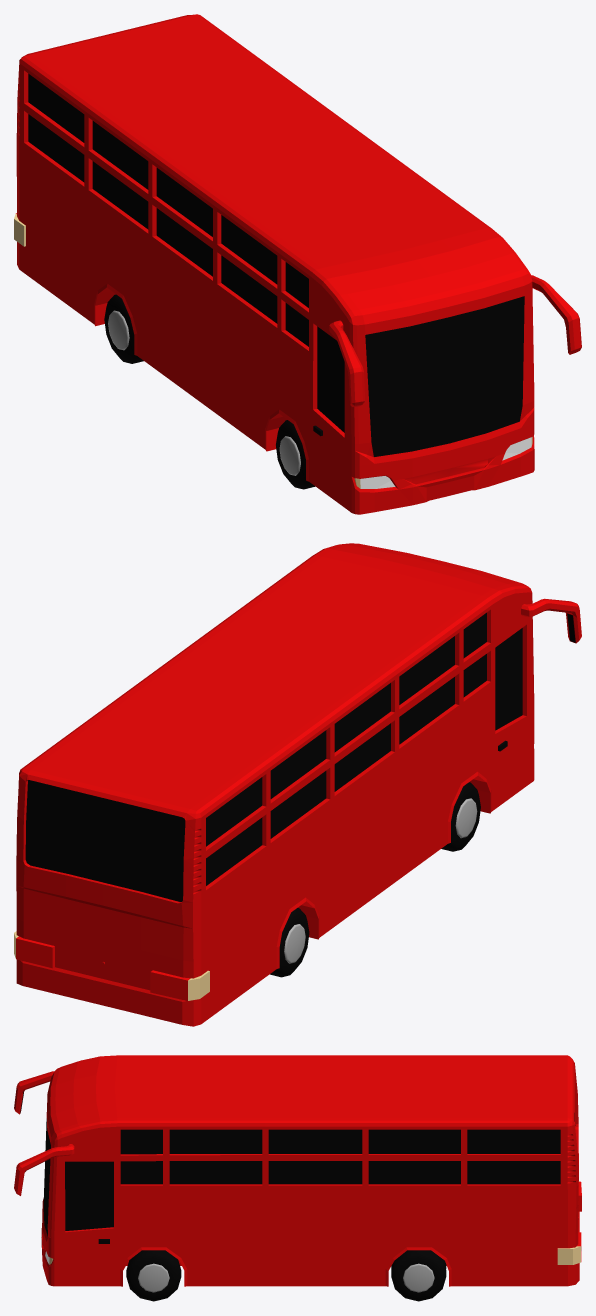
Rendered from BusLowPoly-e.fbx.
The picture shows the model from 3 angles, top to bottom: view 1: azimuth 30°, elevation 25°; view 2: azimuth 150°, elevation 25°; view 3: azimuth 270°, elevation 25°; orthographic projection. The views are drawn at different scales.
Parts seen in each view (by area): view 1: BUS, BR, FR, High-Beam; view 2: BUS, Break-Light, BR, FR; view 3: BUS, BL, FL, Light-Left.
Boxes of the visible parts, x1,y1,x2,y2 form: BUS: (16, 14, 581, 514); BR: (104, 294, 143, 363); FR: (276, 420, 315, 489); High-Beam: (360, 437, 531, 488); BUS: (16, 543, 581, 1026); Break-Light: (16, 936, 190, 1000); BR: (270, 908, 309, 977); FR: (441, 782, 480, 851); BUS: (14, 1055, 581, 1286); BL: (391, 1250, 446, 1301); FL: (126, 1250, 181, 1301); Light-Left: (49, 1246, 580, 1264).
Size of the model in its own units: 3.1 by 3.02 by 8.55.
